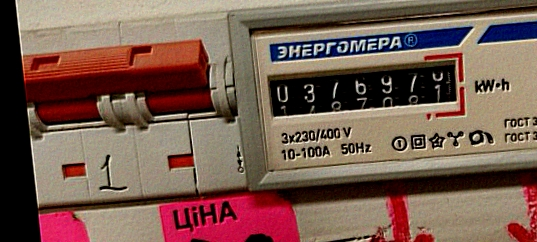0: (273, 80, 289, 104)
1: (431, 82, 444, 103)
3: (301, 81, 317, 104)
6: (352, 72, 369, 96)
7: (326, 76, 343, 101), (404, 69, 421, 94)
9: (378, 71, 394, 94)
screen: (257, 41, 473, 139)
